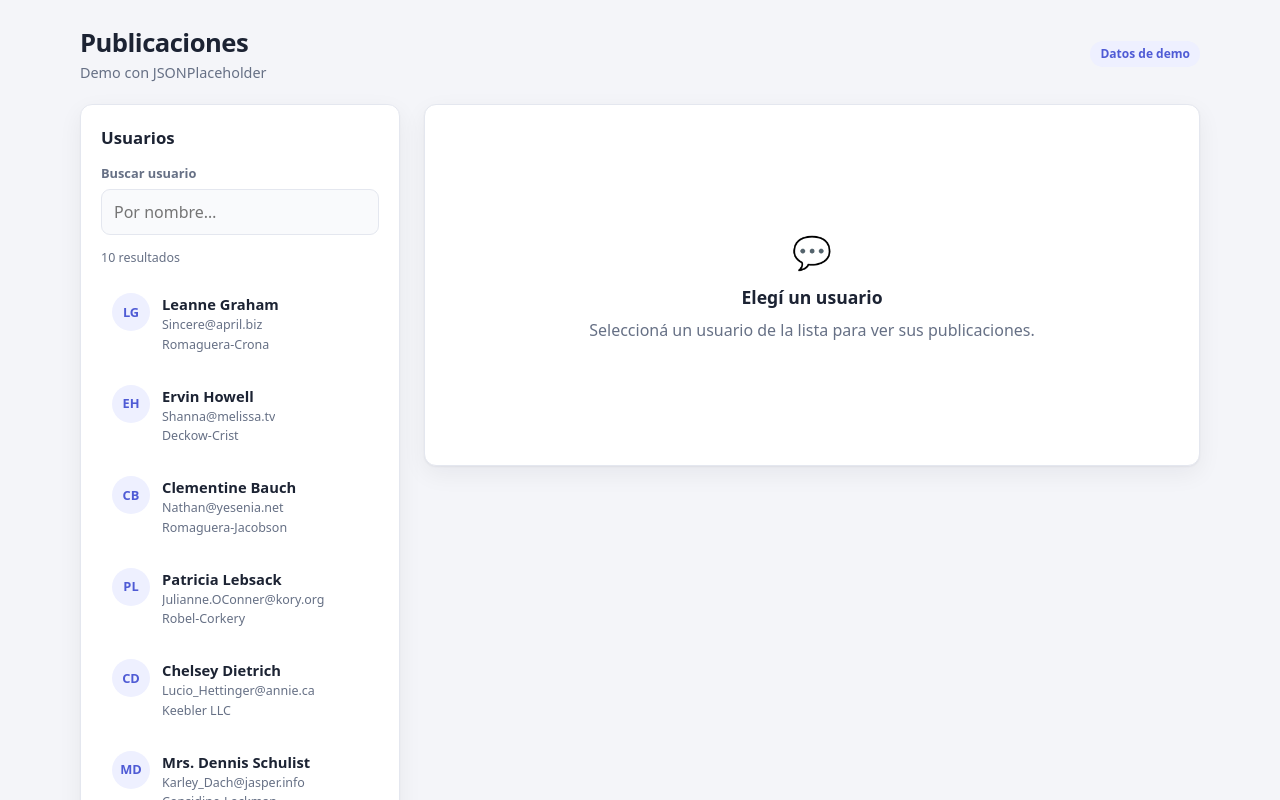
Test: publicaciones por usuario › muestra el estado de carga y luego las publicaciones
Later steps or results of the test are not shown.
Click the button "LG Leanne Graham Sincere@april.biz Romaguera-Crona" at x=240, y=324, box [101,282,379,366]
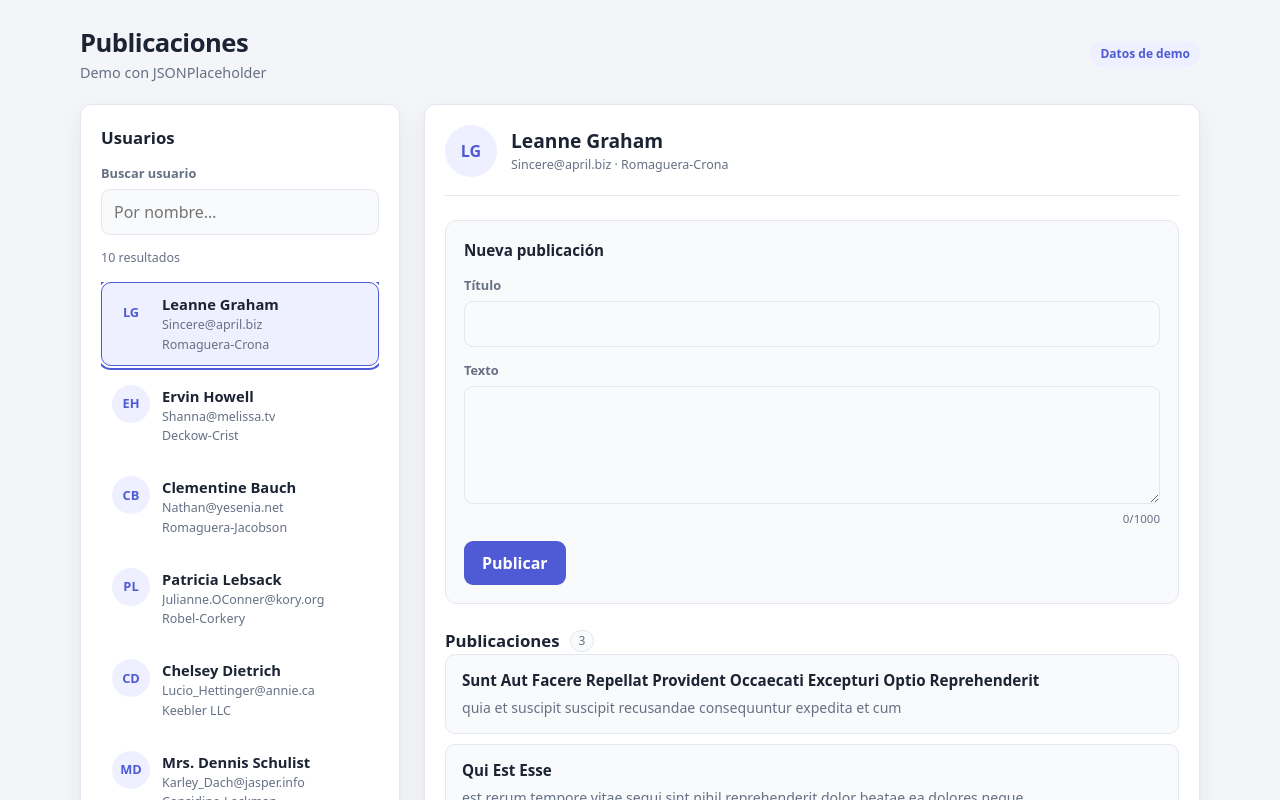
Result: the heading "sunt aut facere repellat provident occaecati excepturi optio reprehenderit" is shown at [462,669,1039,691]
Result: the heading "qui est esse" is shown at [462,758,552,781]
